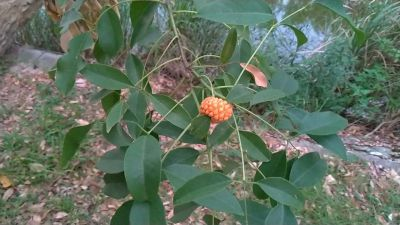eggs: (199, 91, 235, 122)
